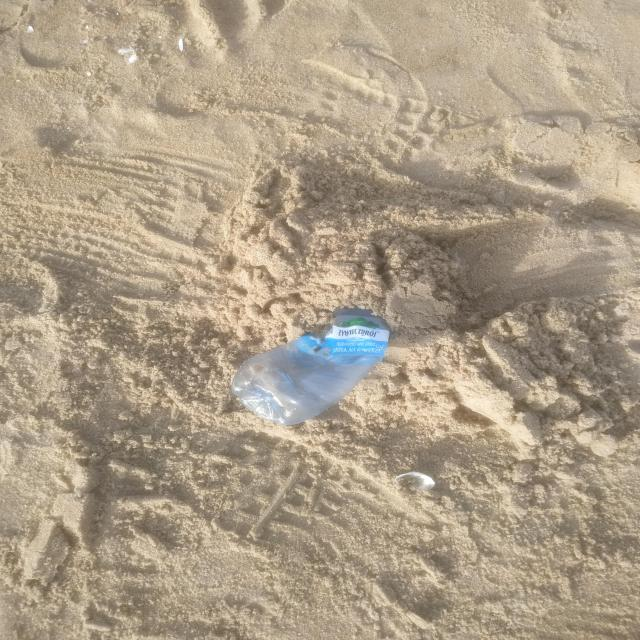litter: (229, 316, 391, 424)
